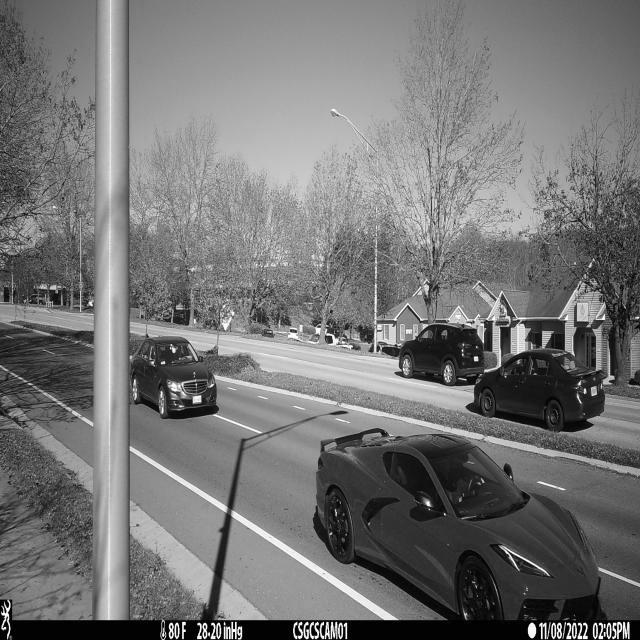Sedan: (313, 428, 609, 622), (130, 336, 219, 419)
